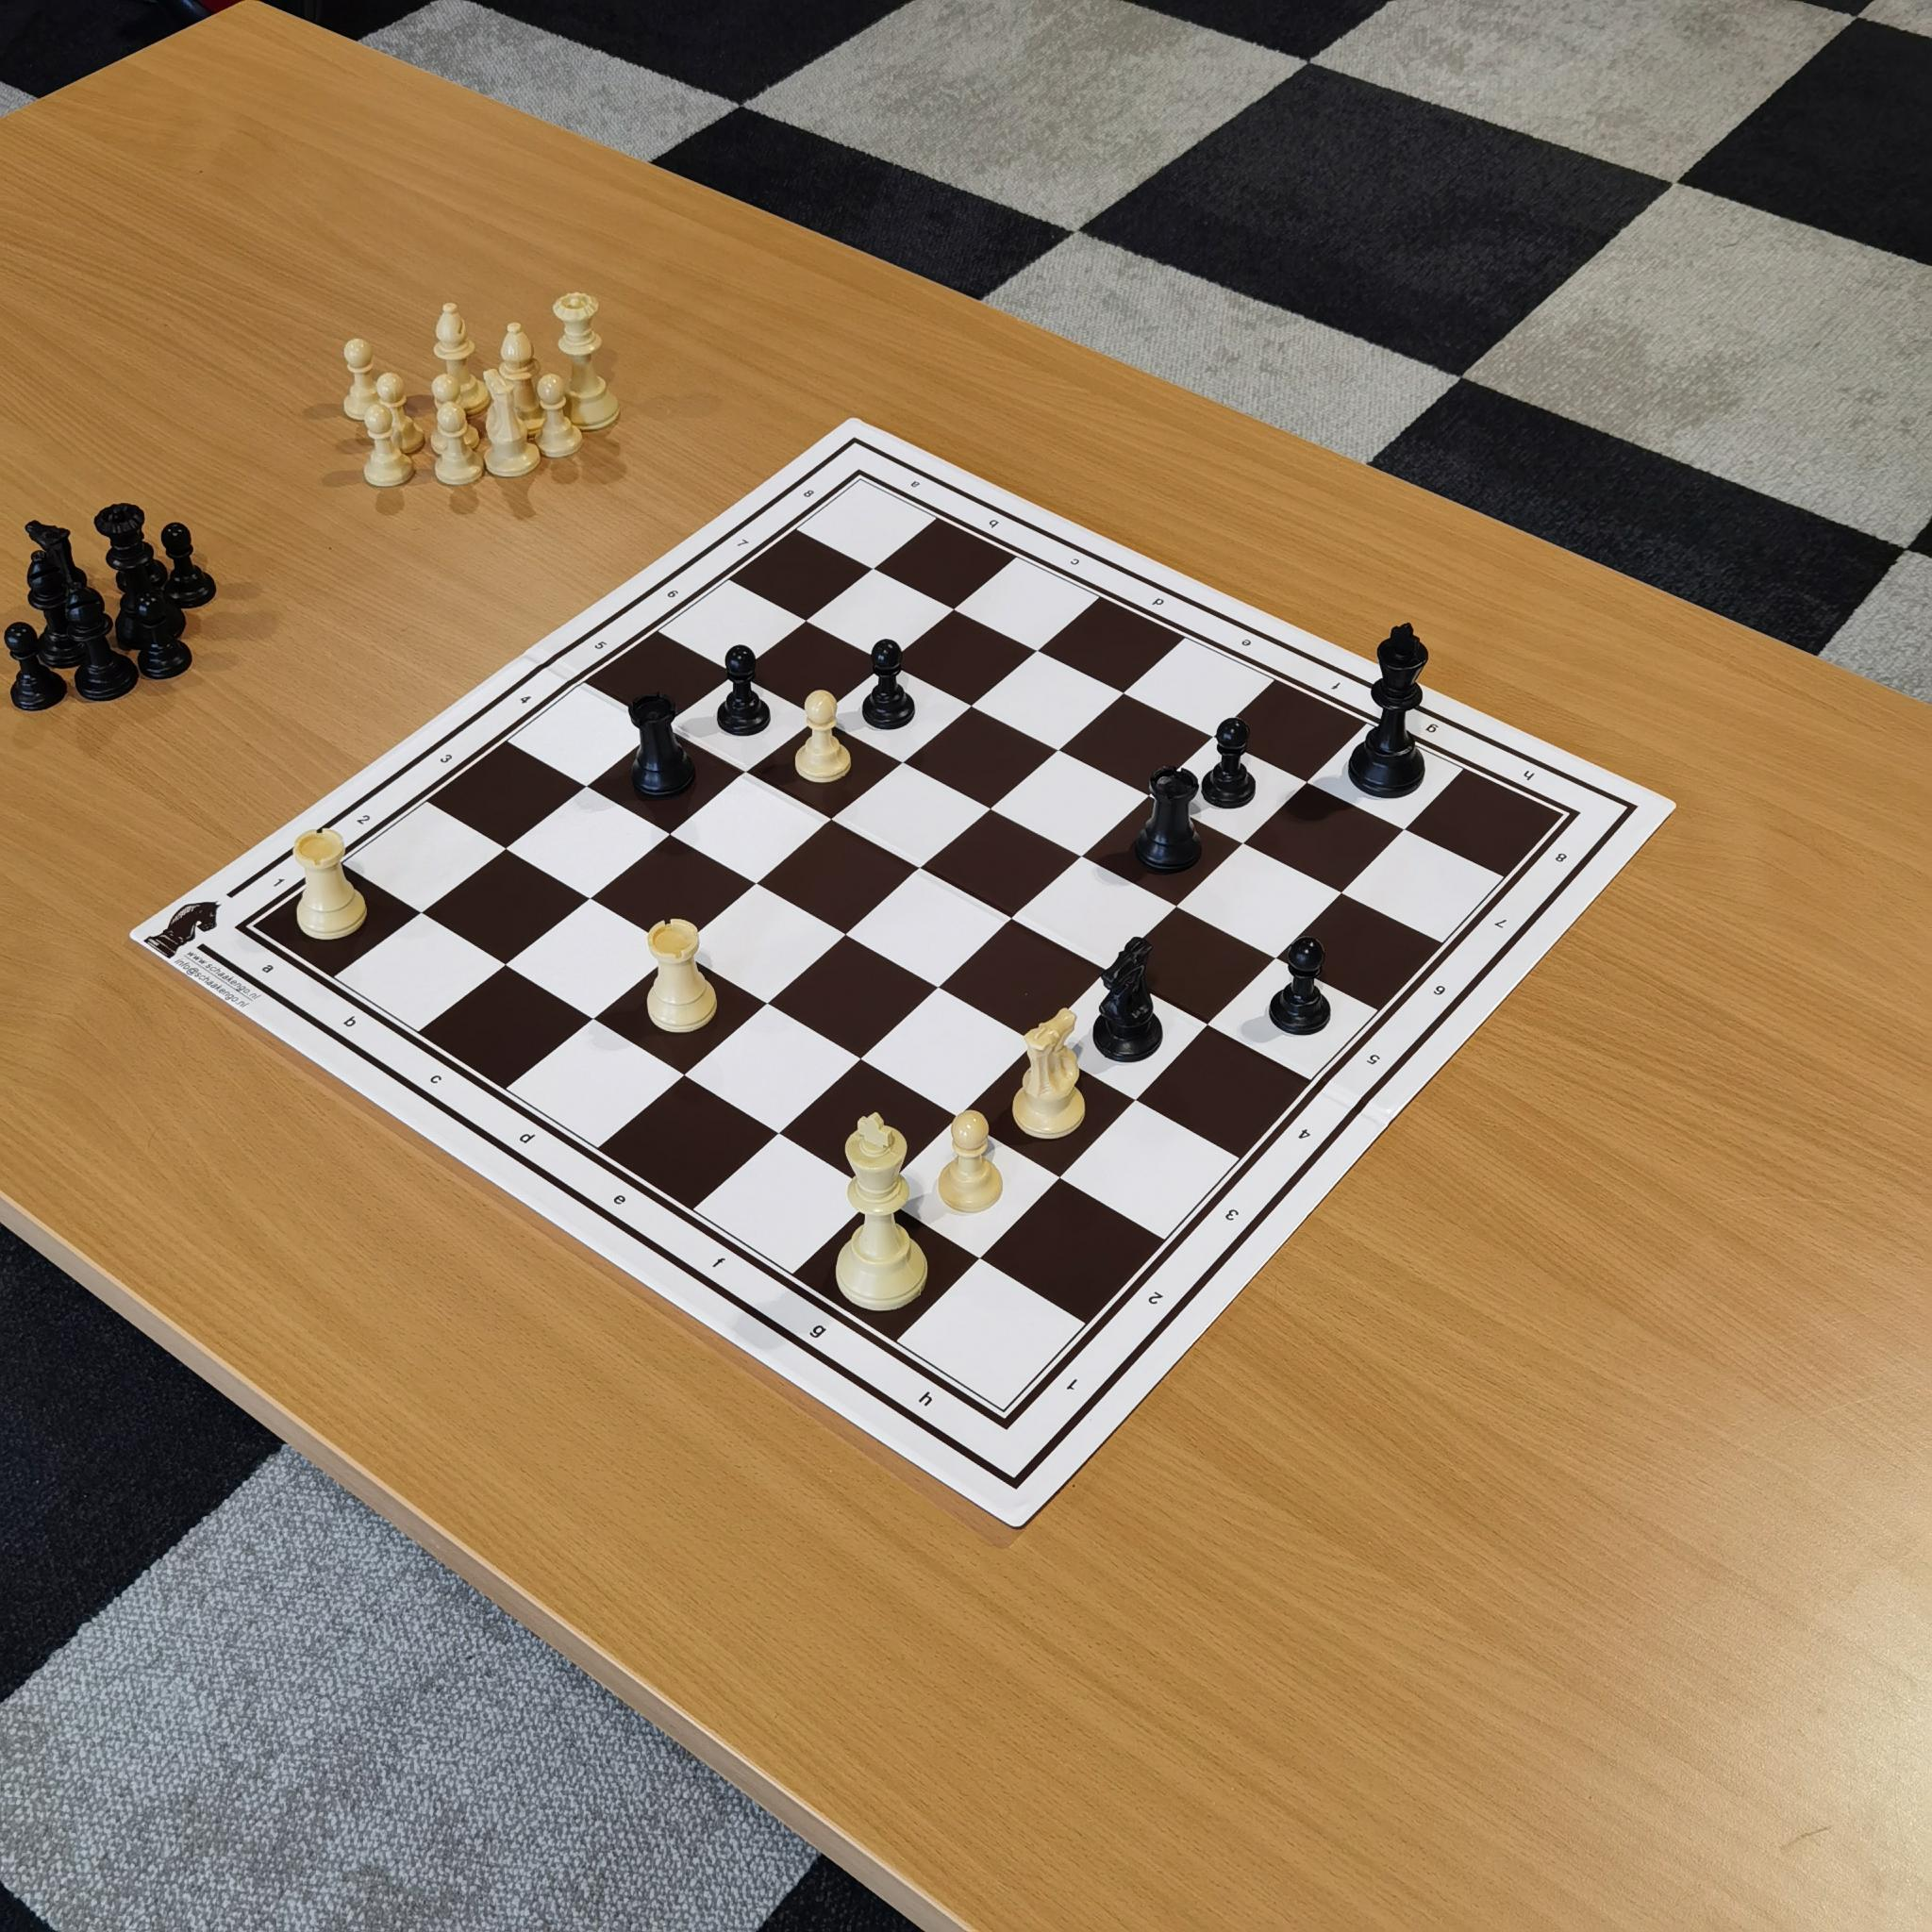corners: (977, 1389, 1030, 1440), (223, 911, 276, 952), (839, 469, 883, 508), (1546, 801, 1596, 835)
eight: (1537, 833, 1583, 879), (794, 483, 823, 511)
one: (1053, 1364, 1095, 1410), (264, 867, 299, 901)
